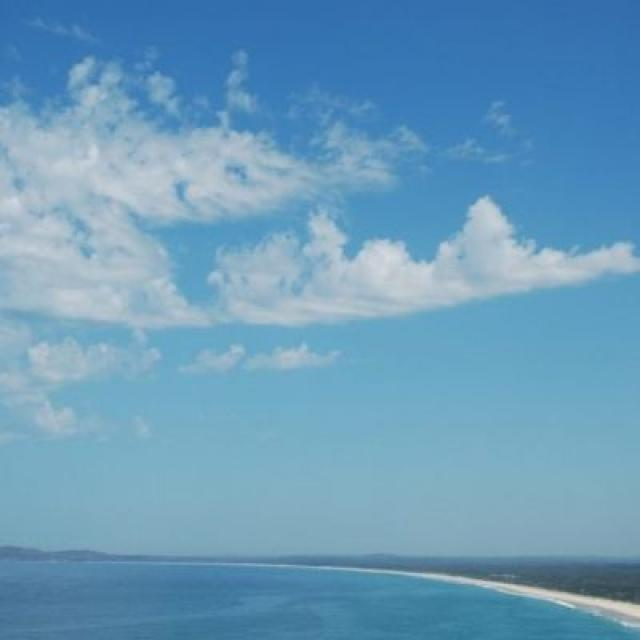Ac: (1, 40, 640, 353)
